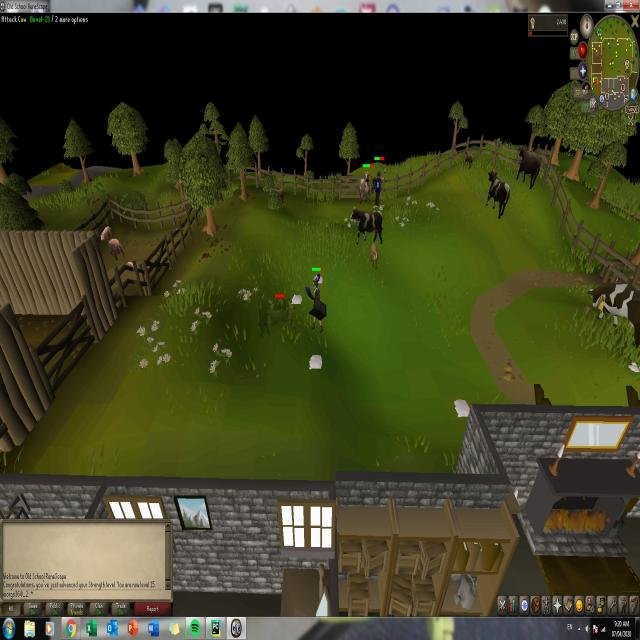cow: (350, 205, 384, 245), (484, 168, 510, 220), (516, 144, 540, 191), (356, 170, 372, 205), (369, 239, 379, 268), (463, 148, 474, 170)
player: (309, 268, 325, 335)
